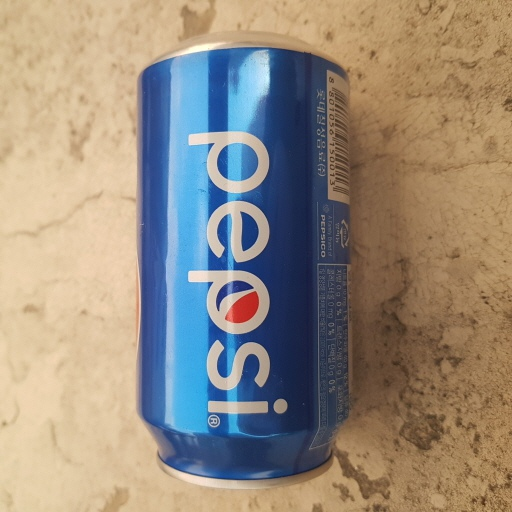Metal_0: (132, 28, 358, 487)
